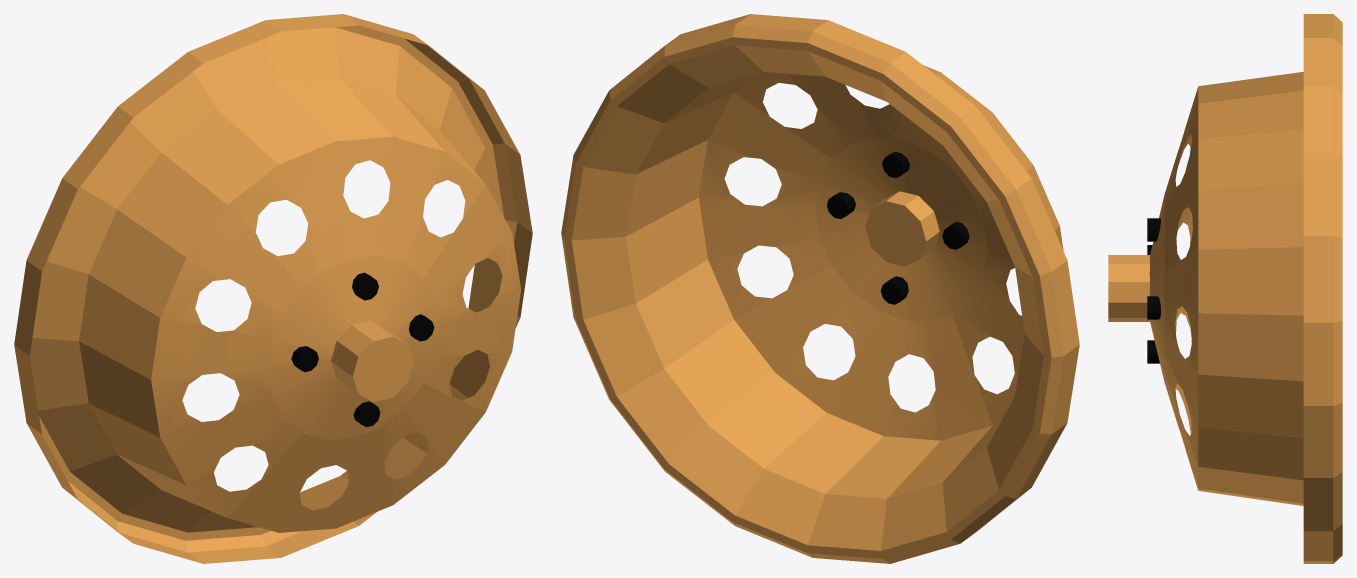
File: Ring4_rear.fbx
The picture shows the model from 3 angles, left to right: view 1: azimuth 30°, elevation 25°; view 2: azimuth 150°, elevation 25°; view 3: azimuth 270°, elevation 25°; orthographic projection. The views are drawn at different scales.
Parts seen in each view (by area): view 1: pCylinder22; view 2: pCylinder22; view 3: pCylinder22.
Part boxes in pixels (x1,y1,x2,y2): pCylinder22: (14,14,532,563); pCylinder22: (561,14,1079,563); pCylinder22: (1108,14,1342,563).
Size of the model in its own units: 0.0291 by 0.0291 by 0.0123.
